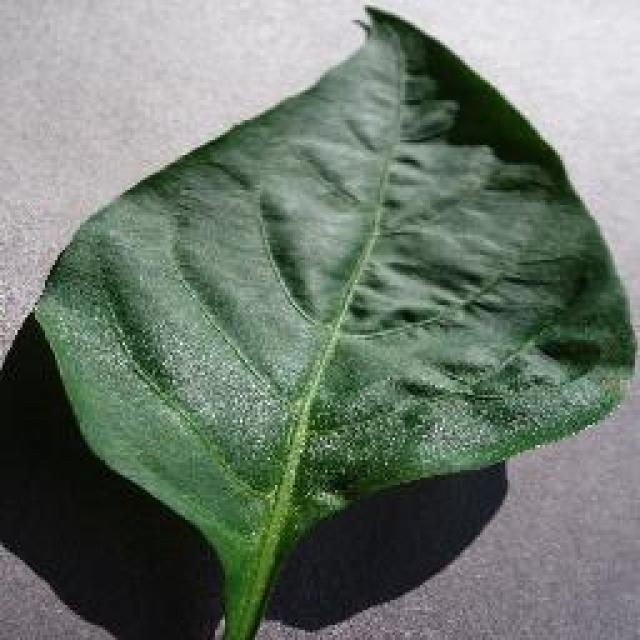Chilli_Healthy: (28, 2, 638, 638)
